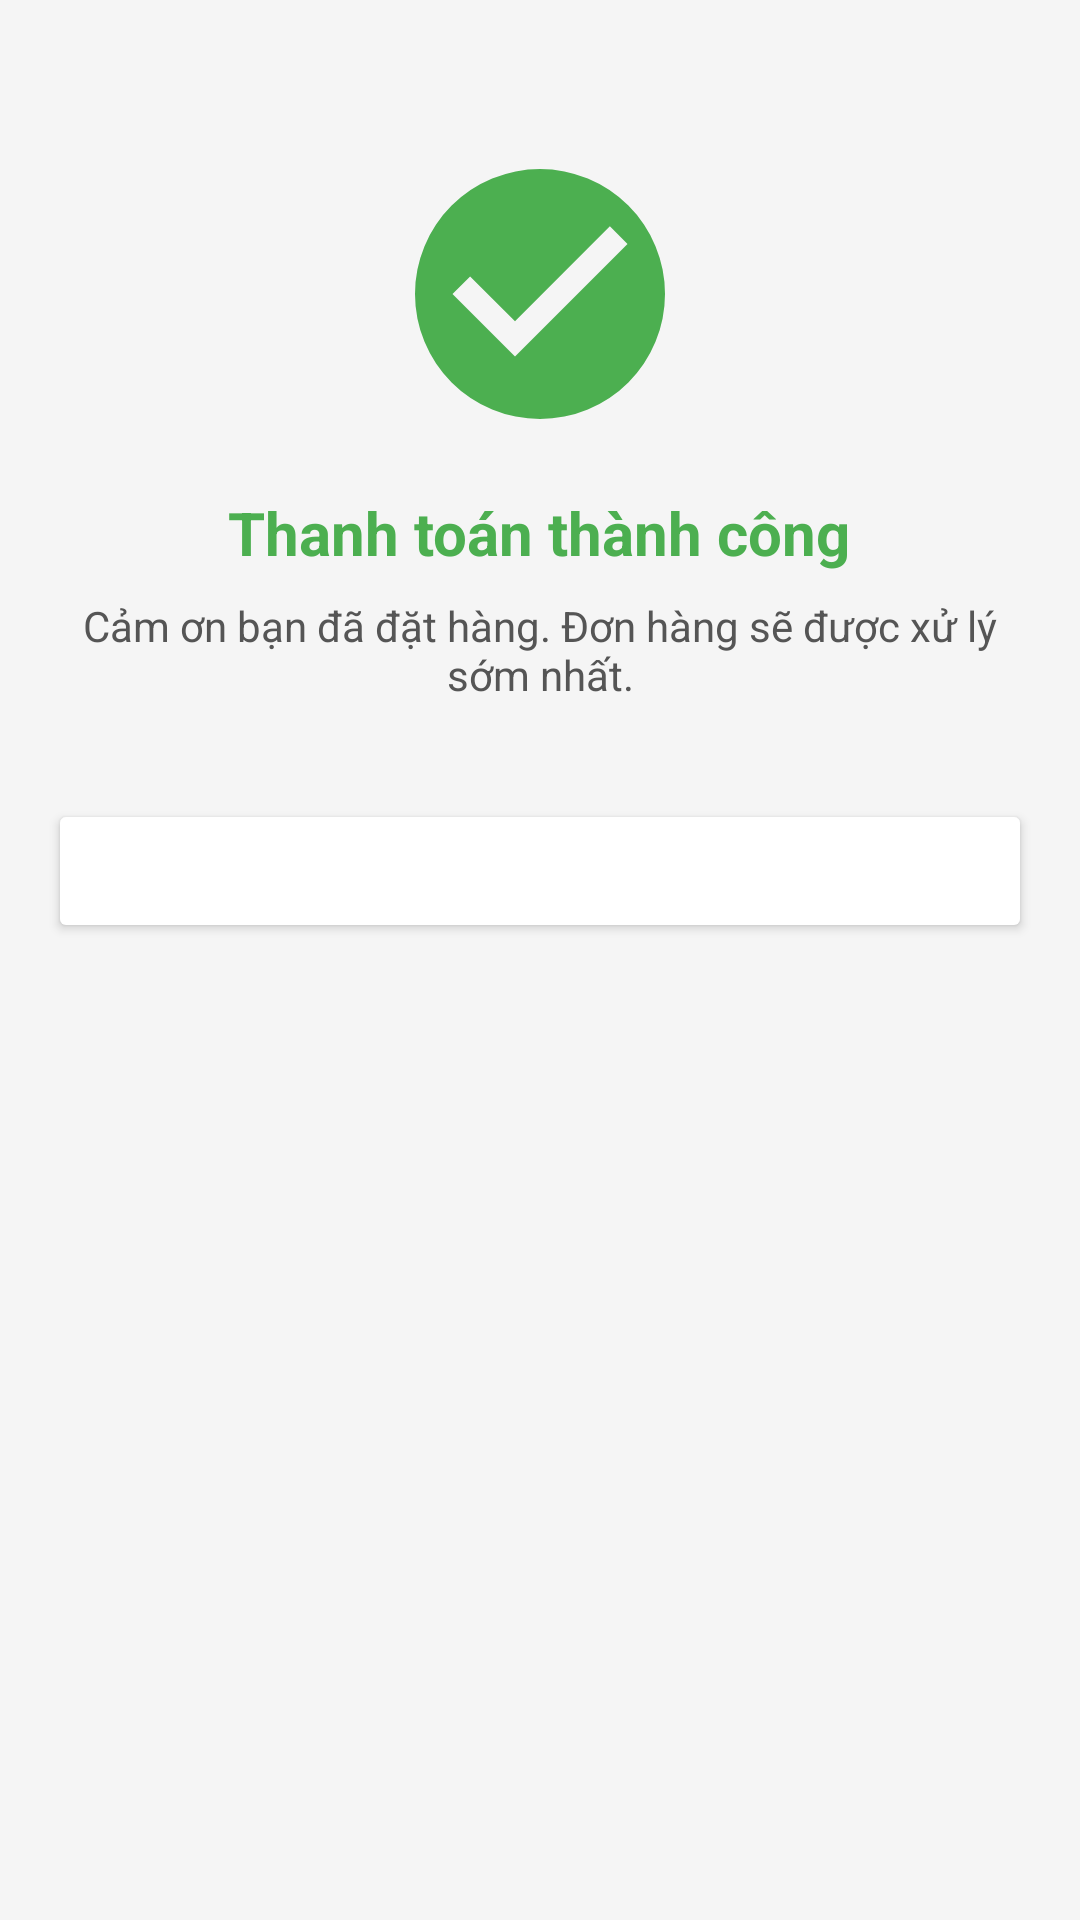

Locate icon controls on the screen. Image size 1080x1920, boxes as BBox(x1, y1, x2, y2).
success: BBox(415, 169, 665, 419)
